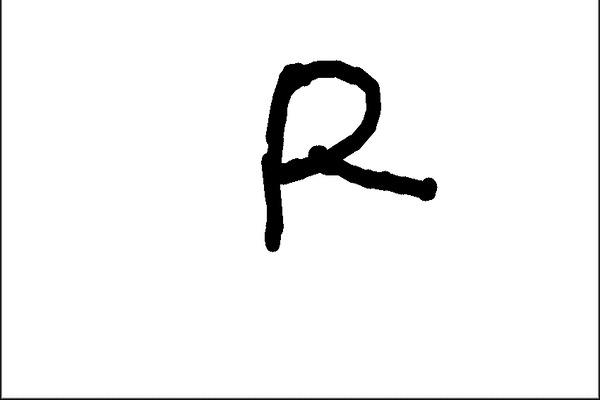R: (254, 46, 439, 250)
